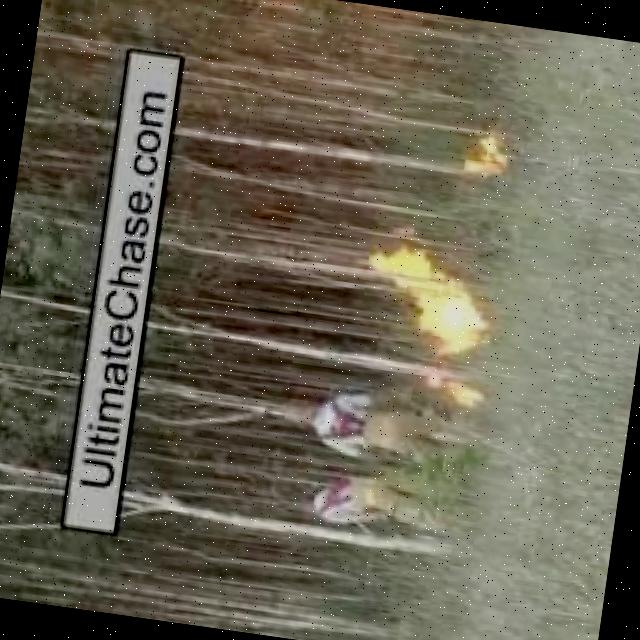fire: (358, 246, 498, 362), (456, 126, 514, 182), (426, 366, 486, 410)
